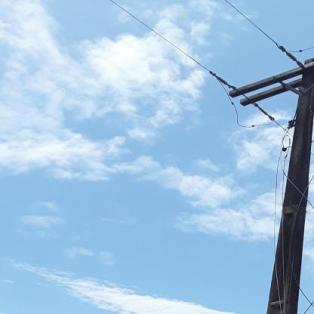Poste: (208, 56, 313, 314)
